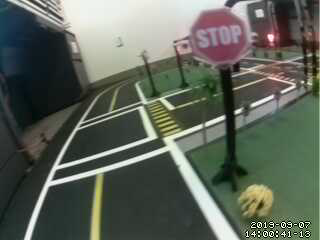Stop_Sign: (183, 7, 253, 69)
